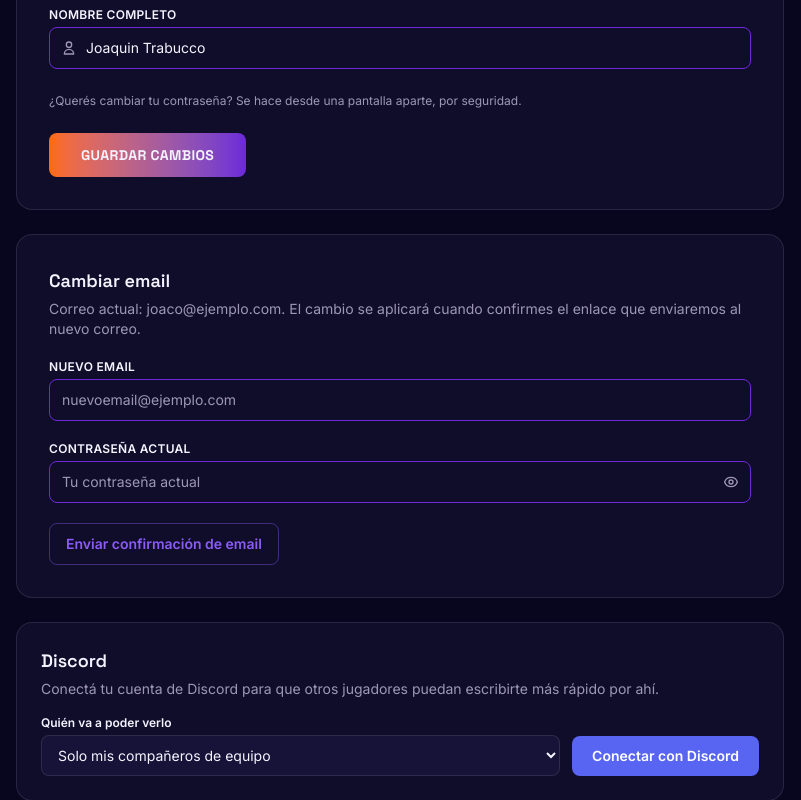
Test: US 02 - Modificar mis datos › muestra el error cuando el nuevo email está ocupado
The image size is (801, 800).
(page scrolled)
Type "ocupado@example.com" into the field named "Nuevo email" at (400, 400), box [49,379,751,421]
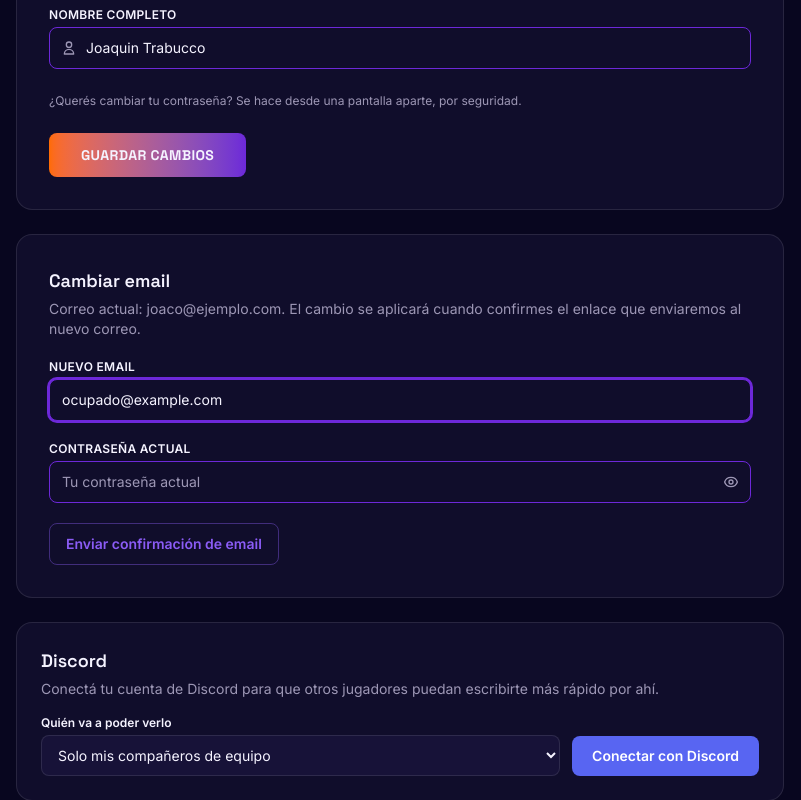
Type "Password123" into the password field labelled "contraseña actual" at (400, 482), box [49,461,751,503]
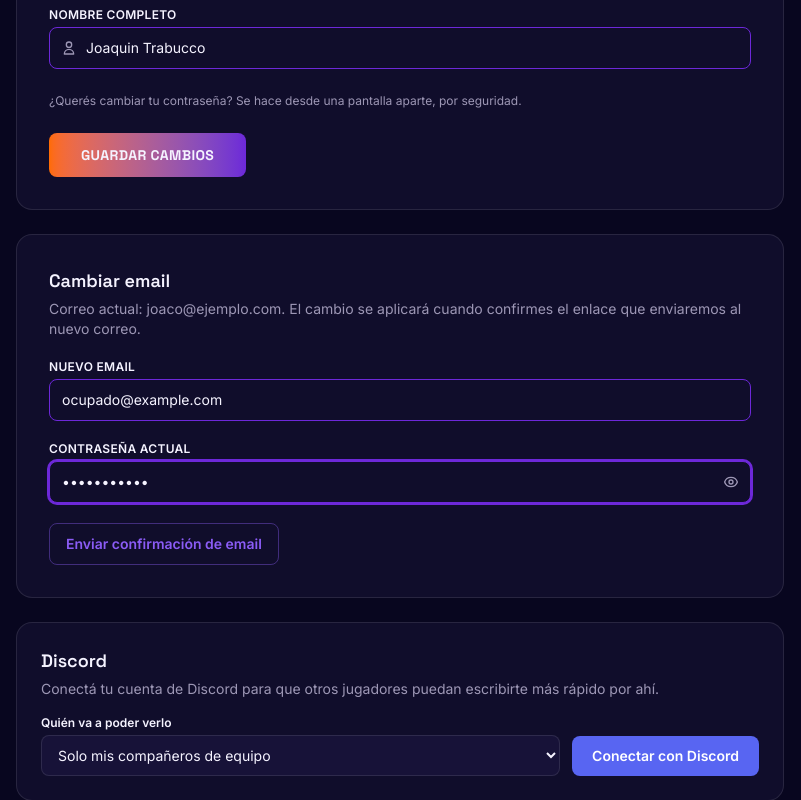
Click the button "Enviar confirmación de email" at (164, 544), box [49,523,279,565]
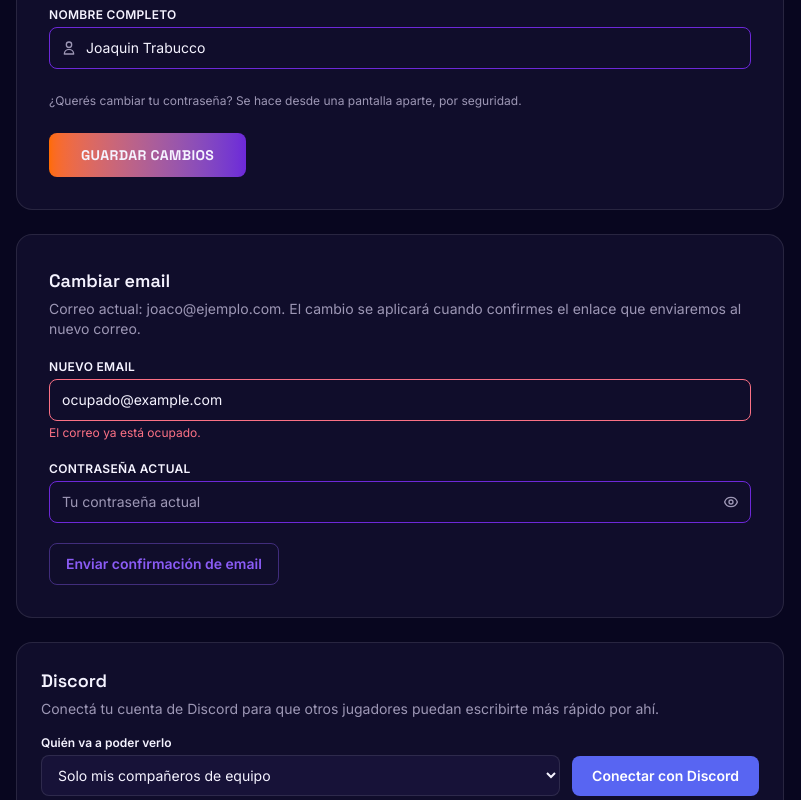
Now the text "El correo ya está ocupado." is shown, box [49,425,201,440]
